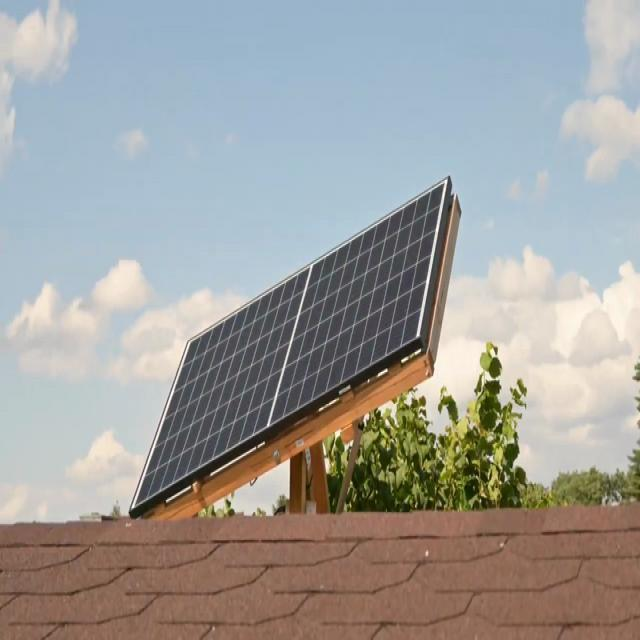Normal Solar Panel: (132, 181, 452, 516)
